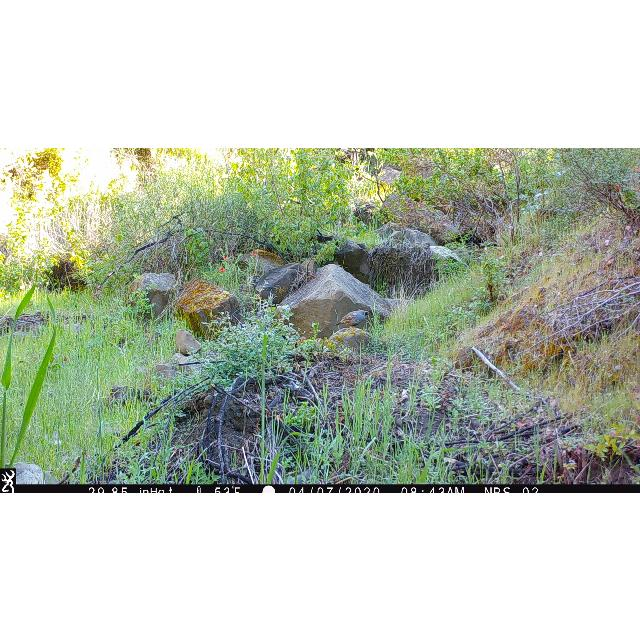animals: (336, 308, 372, 328)
